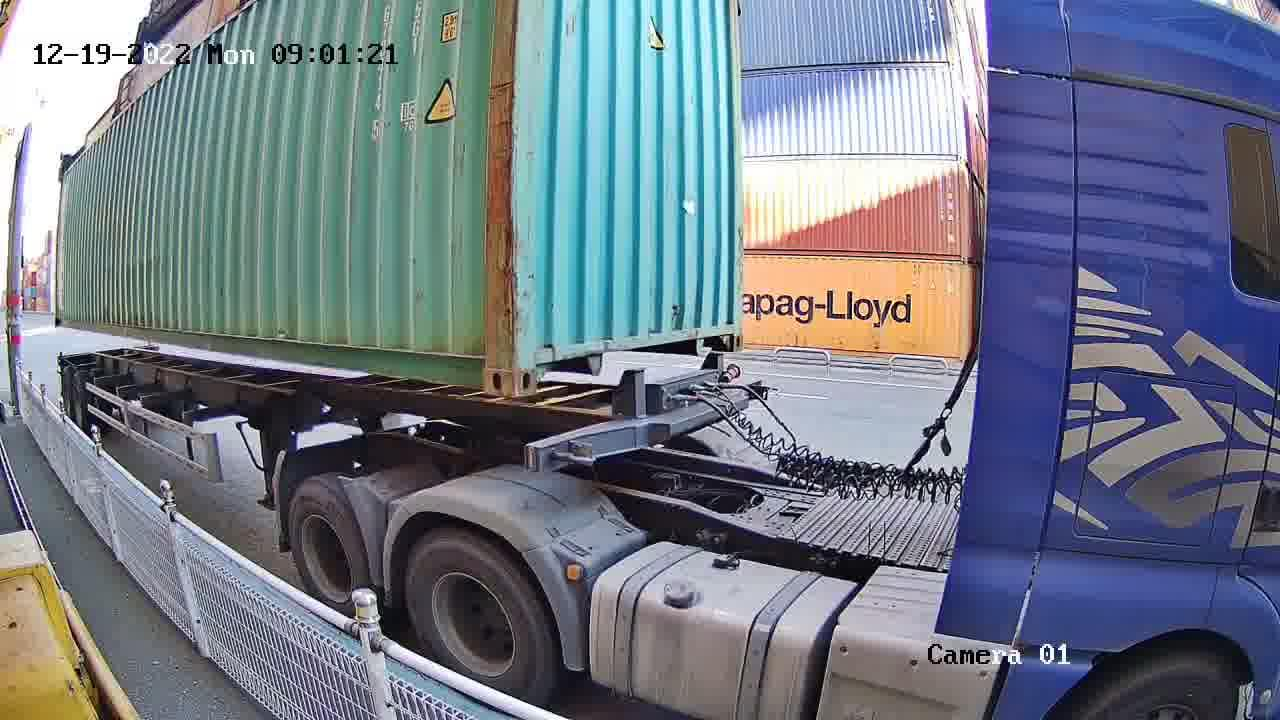Chassis: (524, 375, 760, 474)
Hole_L: (514, 330, 567, 397)
Hole_R: (454, 328, 511, 396), (705, 307, 744, 353)
Tire: (408, 534, 547, 693), (286, 480, 372, 610)
